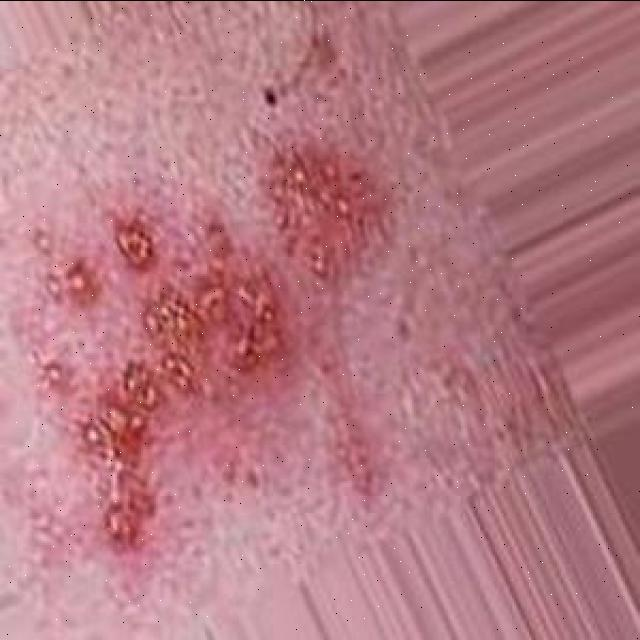Shingles: (41, 222, 279, 548), (261, 139, 375, 277)
